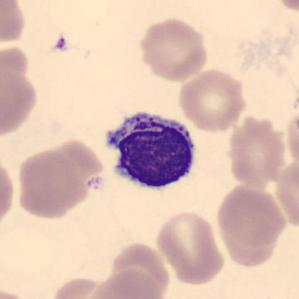Lymphocyte: (100, 104, 201, 197)
Platelets: (83, 175, 106, 195), (52, 34, 69, 54)
RBC: (153, 208, 227, 287), (14, 147, 90, 220), (223, 112, 290, 189), (136, 16, 211, 82), (214, 183, 288, 248), (176, 66, 248, 132), (38, 138, 107, 206), (107, 240, 172, 298), (0, 62, 40, 138), (86, 267, 164, 299), (48, 274, 116, 299), (0, 0, 27, 47), (0, 154, 16, 232), (0, 285, 38, 299), (270, 0, 299, 14)
